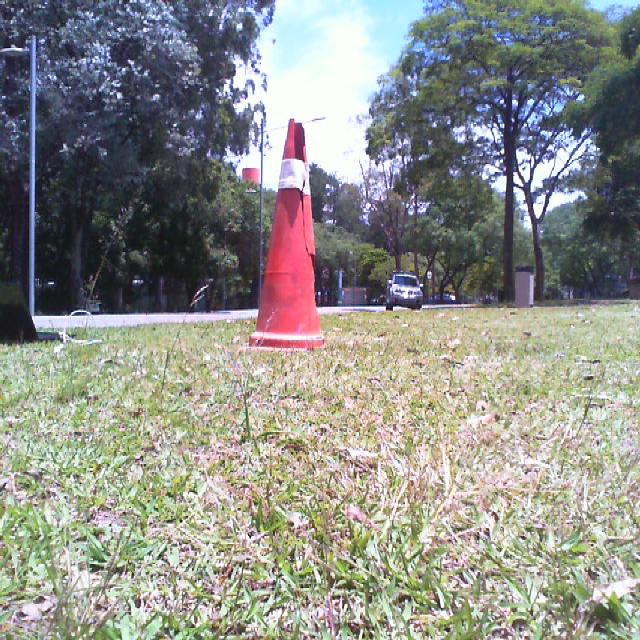cone: (246, 118, 328, 354)
